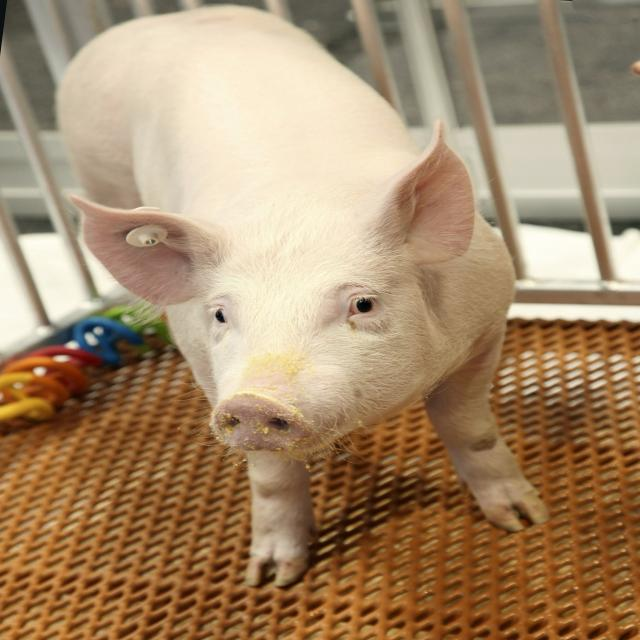Pig: (44, 3, 557, 585)
